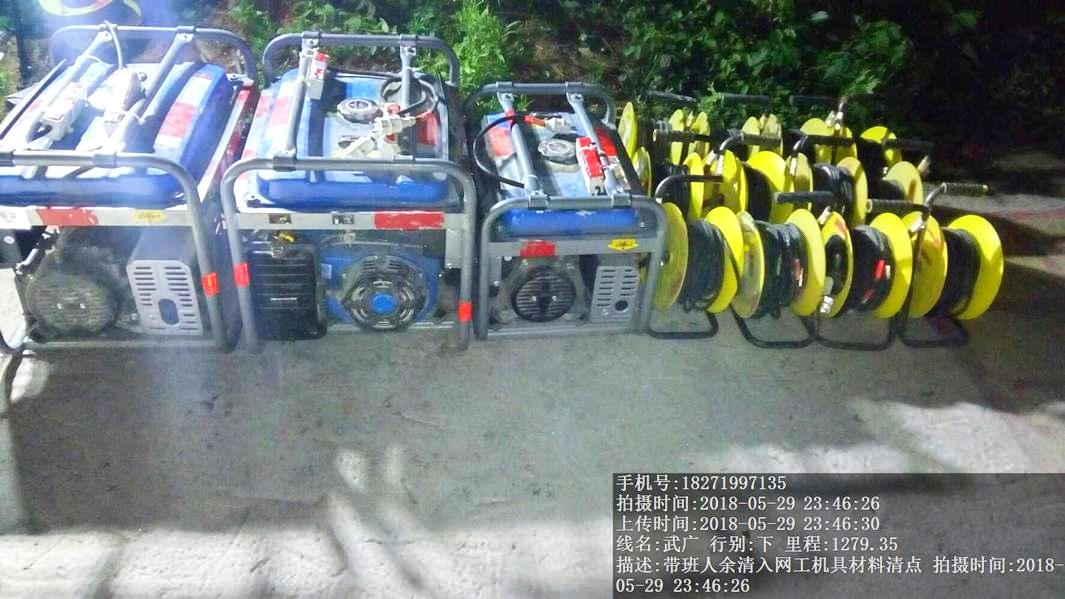DJ: (5, 33, 253, 353), (237, 34, 473, 350), (472, 77, 653, 345)
DX: (651, 189, 741, 338)
